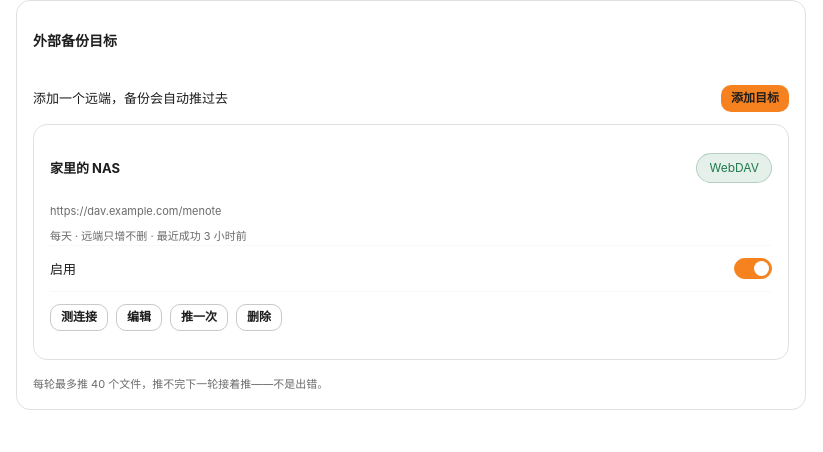
Test: 外部备份目标 · 界面 › 测连接的结果留在这一屏上
This screenshot has width=823, height=452.
Expected: the text "家里的 NAS" is shown, [50,158,120,178]
Click the button "测连接" at (79, 318), box [50,304,108,331]
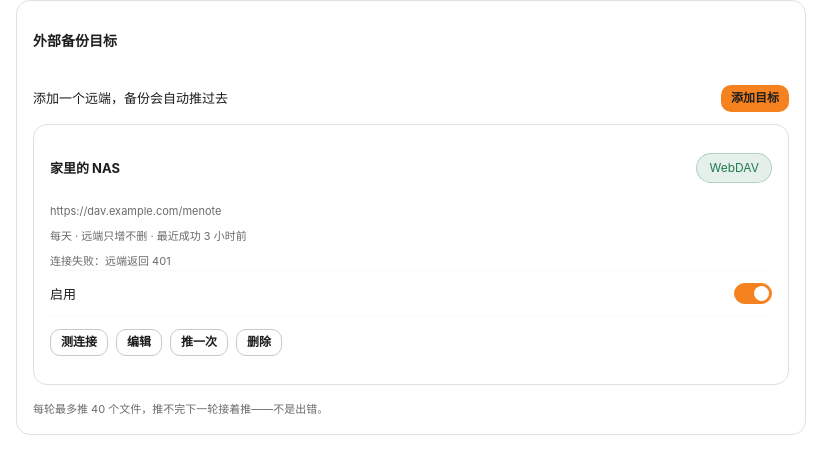
Result: the text "连接失败：远端返回 401" is shown at [50,254,171,268]
